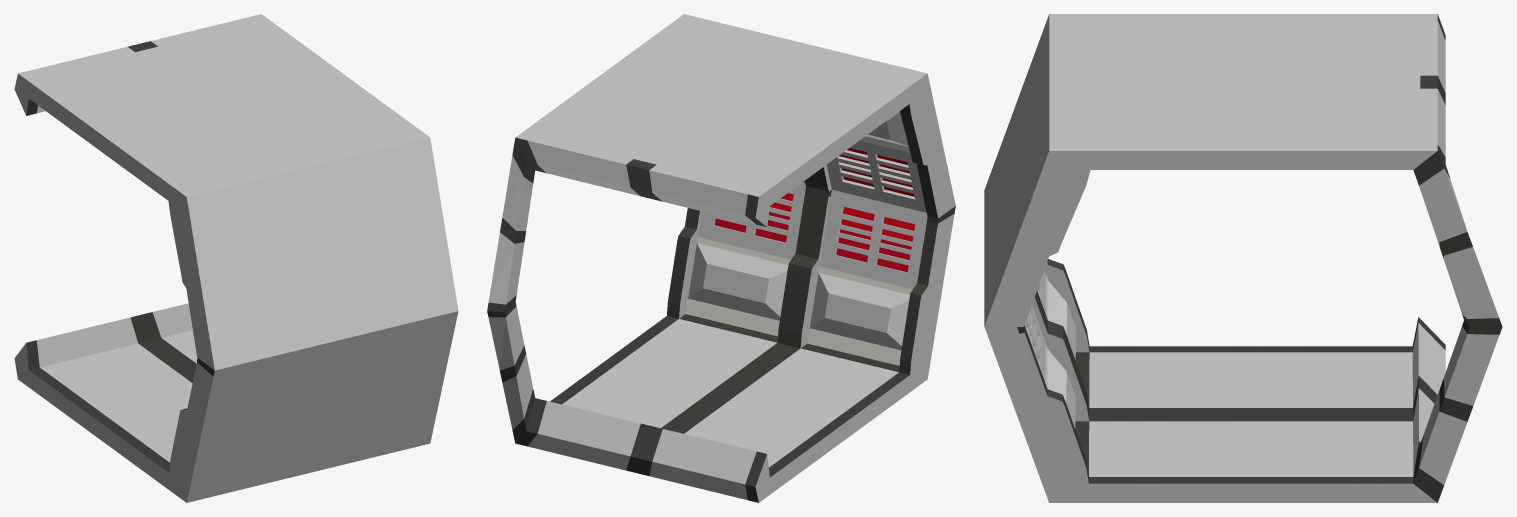
The model's file is Hallway_OpenLeft.fbx.
3 views of the same model, side by side, from view 1: azimuth 30°, elevation 25°; view 2: azimuth 150°, elevation 25°; view 3: azimuth 270°, elevation 25° (orthographic). The views are drawn at different scales.
Parts seen in each view (by area): view 1: Hallway_OpenLeft; view 2: Hallway_OpenLeft; view 3: Hallway_OpenLeft.
Boxes of the visible parts, bbox=[...] form: Hallway_OpenLeft: bbox=[14, 14, 458, 502]; Hallway_OpenLeft: bbox=[487, 14, 955, 502]; Hallway_OpenLeft: bbox=[984, 14, 1502, 502].
Size of the model in its own units: 1.25 by 1.5 by 2.
